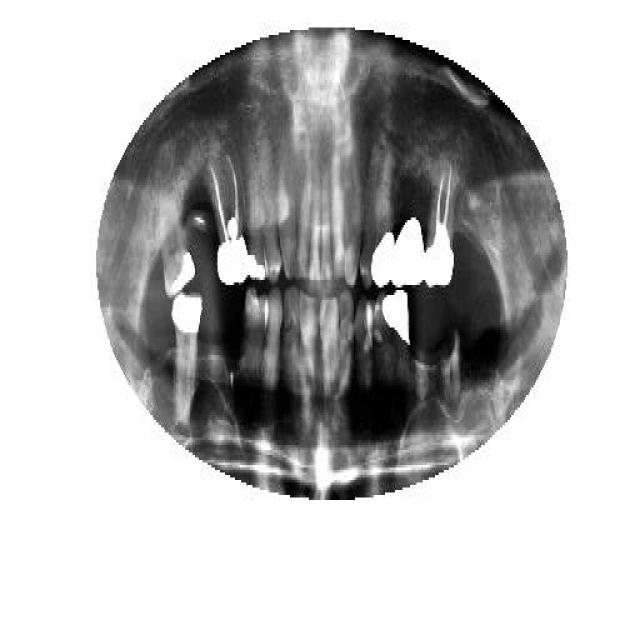Cavity: (438, 330, 464, 408)
Fillings: (172, 288, 202, 428), (156, 202, 195, 300), (369, 155, 395, 290), (381, 288, 411, 388), (394, 215, 424, 290), (246, 167, 265, 285)
Implant: (423, 150, 455, 298), (213, 148, 245, 288)
